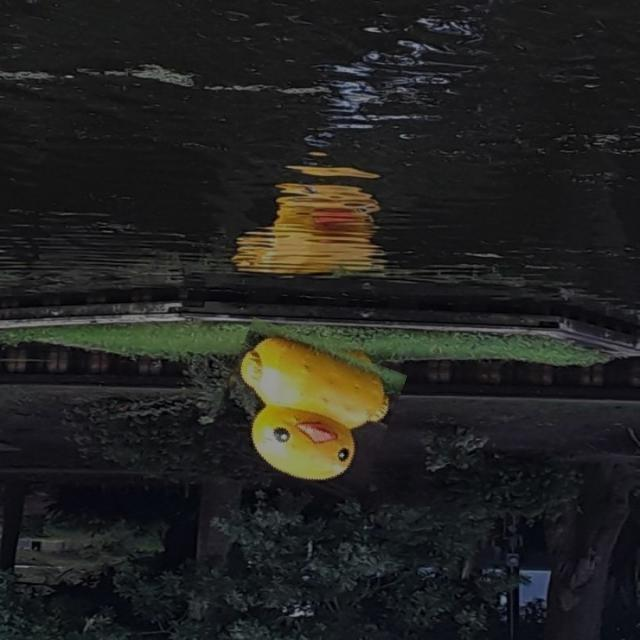rubber-duck: (240, 336, 387, 478)
